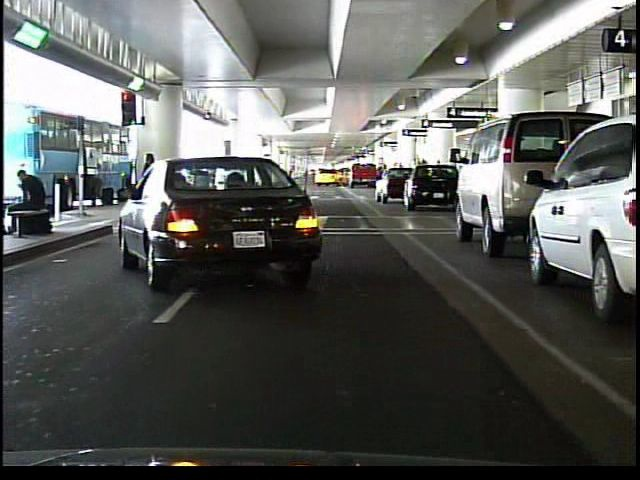person: (12, 165, 50, 242)
